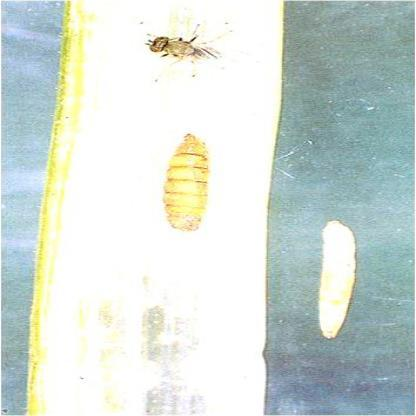whorl-maggot: (304, 214, 367, 344), (156, 125, 224, 241)
